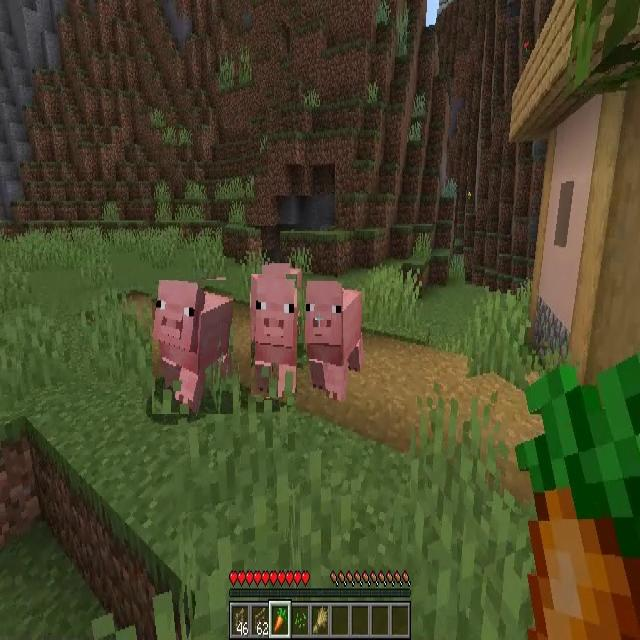pig: (152, 280, 233, 414), (304, 280, 361, 391), (251, 274, 297, 397)
